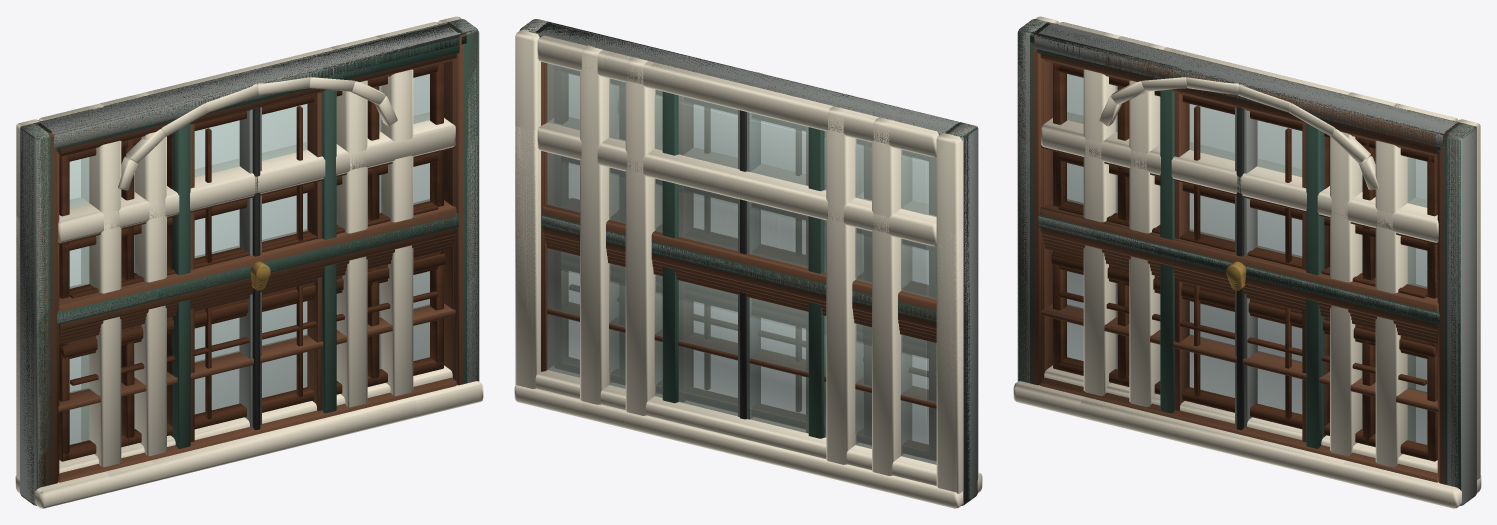
Rendered from asset_055_clubhouse_windows_set.glb.
3 renders of one model, left to right at view 1: azimuth 30°, elevation 25°; view 2: azimuth 150°, elevation 25°; view 3: azimuth 330°, elevation 25°, orthographic.
Parts seen in each view (by area): view 1: MESH_WindowArched_LayeredCreamCasing, MESH_WindowLuxuryCountryClubLuxuryFrameAssembly, MESH_WindowCommercialLuxuryFrameAssembly, MESH_WindowNarrow_LayeredCreamCasing, MESH_WindowCheapAluminumLuxuryFrameAssembly, MESH_WindowWide_LayeredCreamCasing, MESH_WindowStandard_LayeredCreamCasing, MESH_WindowWide_WalnutDoubleSashes, MESH_WindowArched_WalnutDoubleSashes, MESH_WindowStandard_WalnutDoubleSashes, MESH_WindowCheapAluminumMunicipalFrameAssembly, MESH_WindowLuxuryCountryClubPremiumFrameAssembly (+24 smaller); view 2: MESH_WindowStandard_UpperLowerGlass, MESH_WindowArched_LayeredCreamCasing, MESH_WindowStandard_LayeredCreamCasing, MESH_WindowNarrow_LayeredCreamCasing, MESH_WindowArched_UpperLowerGlass, MESH_WindowWide_UpperLowerGlass, MESH_WindowWide_LayeredCreamCasing, MESH_WindowNarrow_UpperLowerGlass, MESH_WindowCommercialLuxuryFrameAssembly, MESH_WindowLuxuryCountryClubLuxuryFrameAssembly, MESH_WindowCheapAluminumHighEndGlass, MESH_WindowCheapAluminumMunicipalFrameAssembly (+23 smaller); view 3: MESH_WindowArched_LayeredCreamCasing, MESH_WindowLuxuryCountryClubLuxuryFrameAssembly, MESH_WindowCommercialLuxuryFrameAssembly, MESH_WindowNarrow_LayeredCreamCasing, MESH_WindowCheapAluminumLuxuryFrameAssembly, MESH_WindowStandard_LayeredCreamCasing, MESH_WindowWide_LayeredCreamCasing, MESH_WindowCommercialHighEndGlass, MESH_WindowStandard_WalnutDoubleSashes, MESH_WindowWide_WalnutDoubleSashes, MESH_WindowCheapAluminumMunicipalFrameAssembly, MESH_WindowPremiumBlackLuxuryFrameAssembly (+20 smaller).
Part boxes in pixels (x1,y1,x2,y2): MESH_WindowArched_LayeredCreamCasing: [81, 32, 416, 492]; MESH_WindowLuxuryCountryClubLuxuryFrameAssembly: [26, 20, 477, 487]; MESH_WindowCommercialLuxuryFrameAssembly: [22, 19, 478, 487]; MESH_WindowNarrow_LayeredCreamCasing: [130, 43, 368, 479]; MESH_WindowCheapAluminumLuxuryFrameAssembly: [20, 19, 479, 505]; MESH_WindowWide_LayeredCreamCasing: [16, 112, 455, 479]; MESH_WindowStandard_LayeredCreamCasing: [15, 16, 483, 508]; MESH_WindowWide_WalnutDoubleSashes: [59, 153, 445, 459]; MESH_WindowArched_WalnutDoubleSashes: [121, 79, 379, 445]; MESH_WindowStandard_WalnutDoubleSashes: [59, 63, 443, 461]; MESH_WindowCheapAluminumMunicipalFrameAssembly: [22, 19, 475, 422]; MESH_WindowLuxuryCountryClubPremiumFrameAssembly: [43, 23, 455, 477]; MESH_WindowStandard_UpperLowerGlass: [561, 74, 926, 451]; MESH_WindowArched_LayeredCreamCasing: [580, 45, 911, 492]; MESH_WindowStandard_LayeredCreamCasing: [514, 24, 982, 508]; MESH_WindowNarrow_LayeredCreamCasing: [625, 57, 863, 480]; MESH_WindowArched_UpperLowerGlass: [655, 97, 861, 435]; MESH_WindowWide_UpperLowerGlass: [561, 163, 926, 450]; MESH_WindowWide_LayeredCreamCasing: [515, 117, 962, 492]; MESH_WindowNarrow_UpperLowerGlass: [679, 102, 807, 418]; MESH_WindowCommercialLuxuryFrameAssembly: [520, 19, 973, 438]; MESH_WindowLuxuryCountryClubLuxuryFrameAssembly: [537, 20, 976, 408]; MESH_WindowCheapAluminumHighEndGlass: [547, 64, 936, 463]; MESH_WindowCheapAluminumMunicipalFrameAssembly: [522, 20, 975, 418]; MESH_WindowArched_LayeredCreamCasing: [1080, 32, 1415, 492]; MESH_WindowLuxuryCountryClubLuxuryFrameAssembly: [1018, 19, 1468, 484]; MESH_WindowCommercialLuxuryFrameAssembly: [1018, 19, 1475, 504]; MESH_WindowNarrow_LayeredCreamCasing: [1126, 43, 1366, 479]; MESH_WindowCheapAluminumLuxuryFrameAssembly: [1017, 20, 1476, 505]; MESH_WindowStandard_LayeredCreamCasing: [1013, 16, 1481, 508]; MESH_WindowWide_LayeredCreamCasing: [1041, 112, 1480, 478]; MESH_WindowCommercialHighEndGlass: [1067, 74, 1426, 444]; MESH_WindowStandard_WalnutDoubleSashes: [1053, 63, 1437, 461]; MESH_WindowWide_WalnutDoubleSashes: [1051, 153, 1437, 460]; MESH_WindowCheapAluminumMunicipalFrameAssembly: [1021, 19, 1475, 504]; MESH_WindowPremiumBlackLuxuryFrameAssembly: [1018, 24, 1458, 487].
Size of the model in its own units: 2.19 by 1.74 by 0.2355.
Materials: 25 (1 with a texture image).
